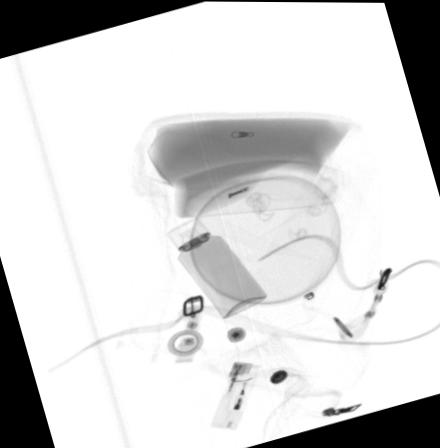Lighter: (210, 361, 261, 429)
Sprayer: (166, 215, 268, 318)
